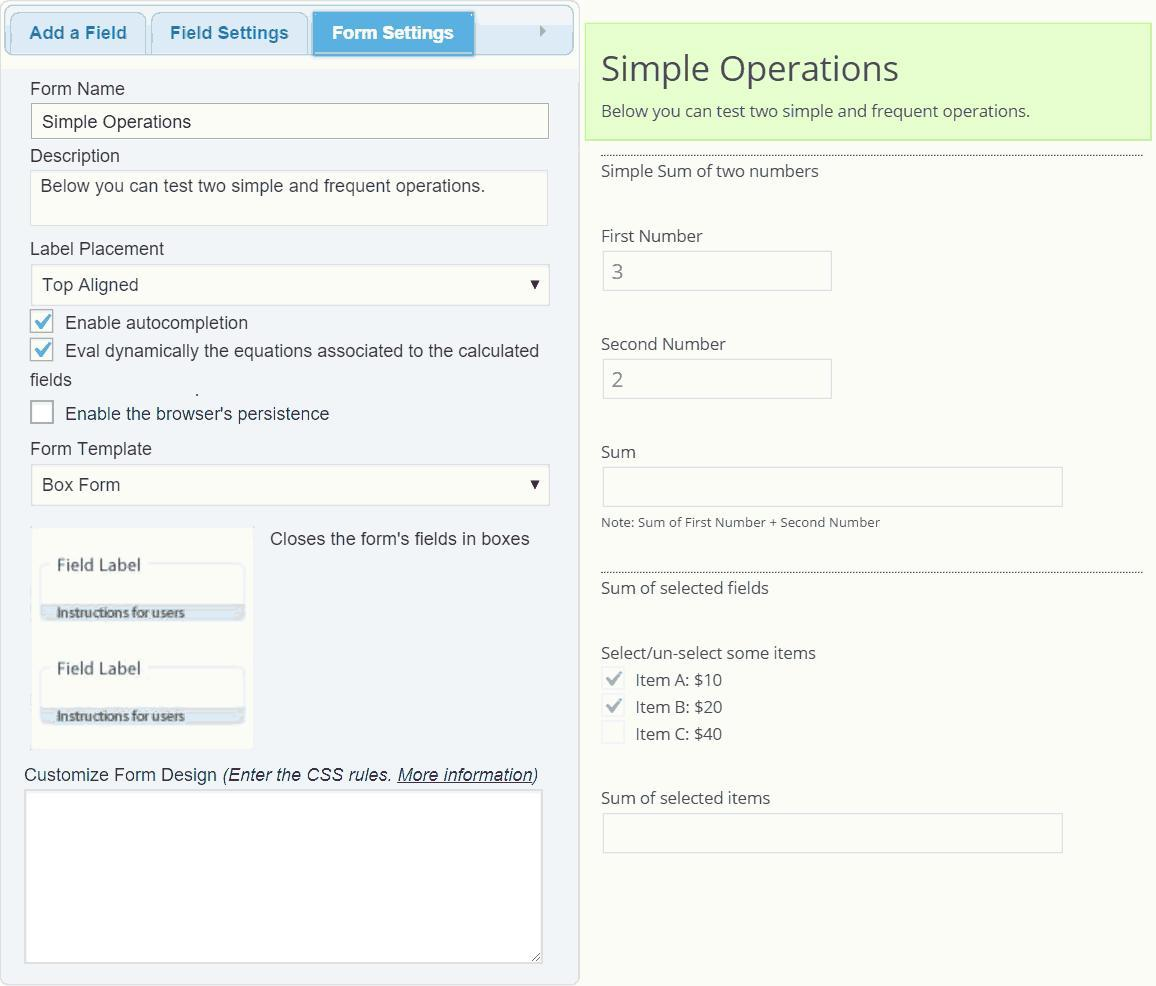button: (314, 14, 475, 57), (151, 13, 309, 56), (10, 12, 147, 56)
checkbox: (30, 338, 55, 363), (30, 310, 55, 334), (30, 401, 55, 425), (603, 668, 626, 691), (603, 722, 626, 743), (603, 696, 626, 716)
dropdown: (32, 264, 551, 308), (32, 467, 551, 508)
input: (31, 171, 548, 226), (604, 814, 1063, 855), (32, 104, 550, 140), (604, 469, 1064, 508), (604, 252, 833, 292), (605, 360, 832, 399), (41, 668, 244, 709), (41, 565, 244, 605)
label: (23, 764, 546, 786), (66, 341, 544, 360), (65, 404, 334, 425), (270, 529, 534, 547), (601, 642, 818, 663), (600, 161, 822, 180), (64, 314, 252, 334), (598, 579, 768, 601), (600, 791, 777, 811), (28, 238, 167, 259), (30, 440, 157, 458), (635, 671, 726, 692), (601, 227, 706, 245), (599, 338, 729, 352), (29, 148, 123, 167), (30, 81, 127, 99), (635, 699, 726, 717), (635, 726, 724, 742), (599, 444, 639, 465)
